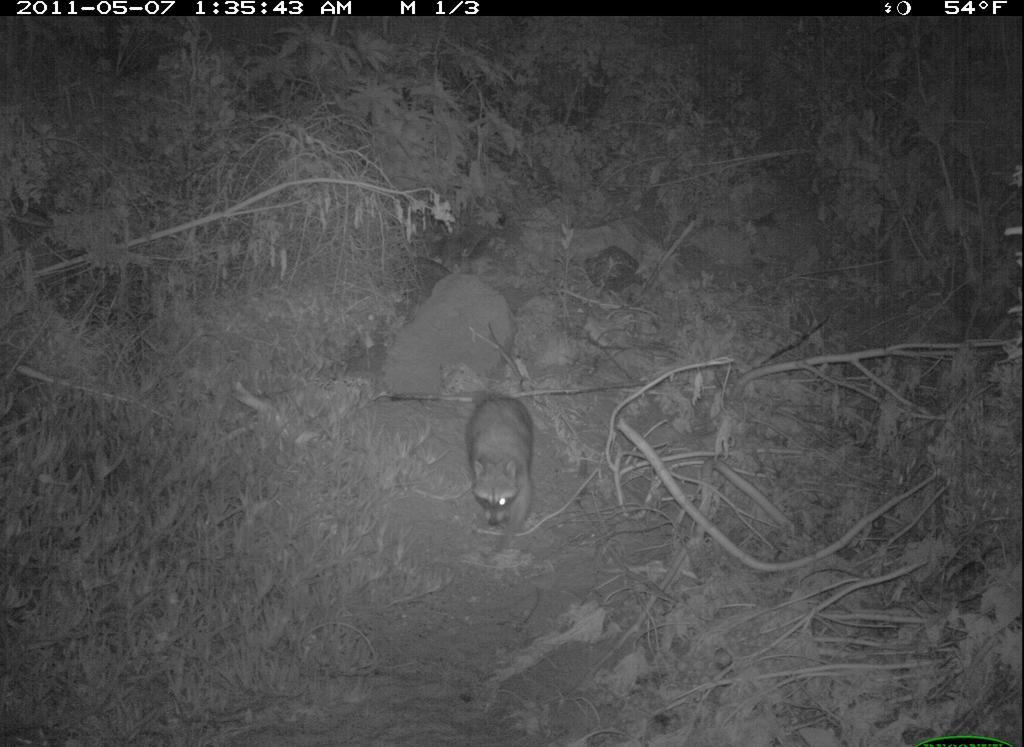raccoon: (447, 374, 541, 537)
